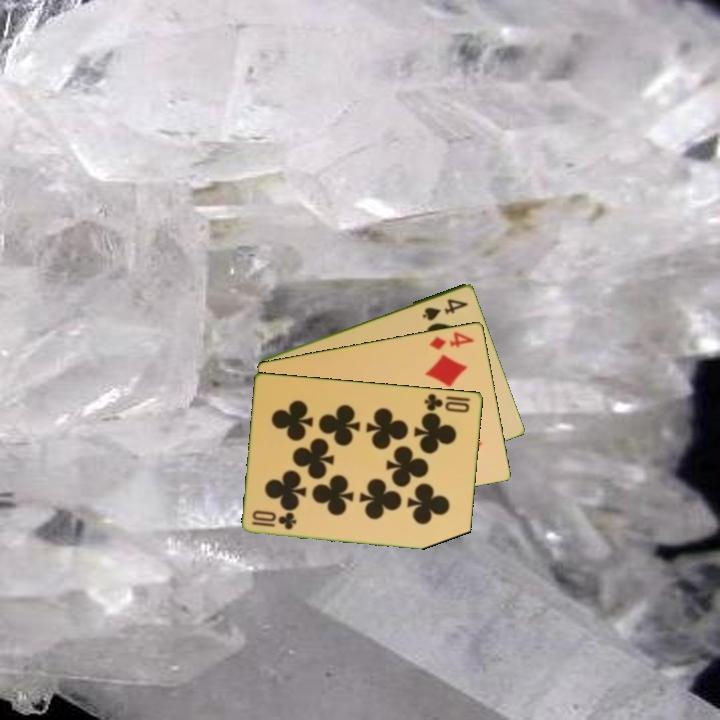10c: (421, 390, 473, 415), (249, 510, 300, 532)
4d: (426, 328, 477, 353)
4s: (419, 295, 471, 323)
